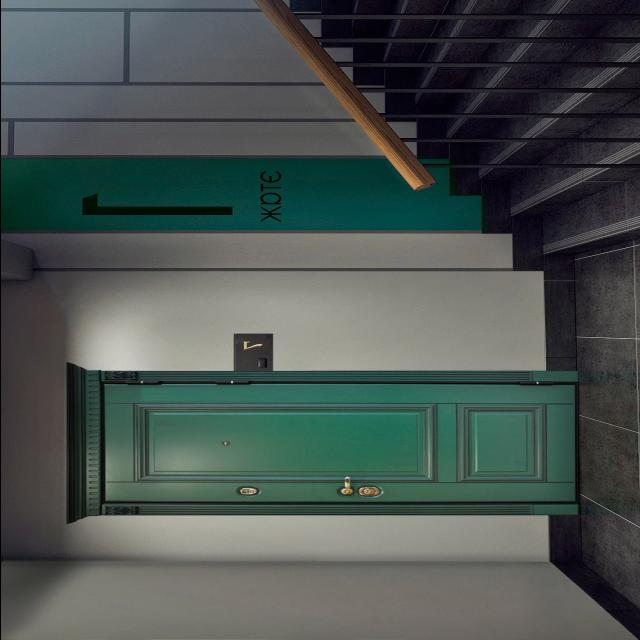close: (99, 382, 577, 512)
